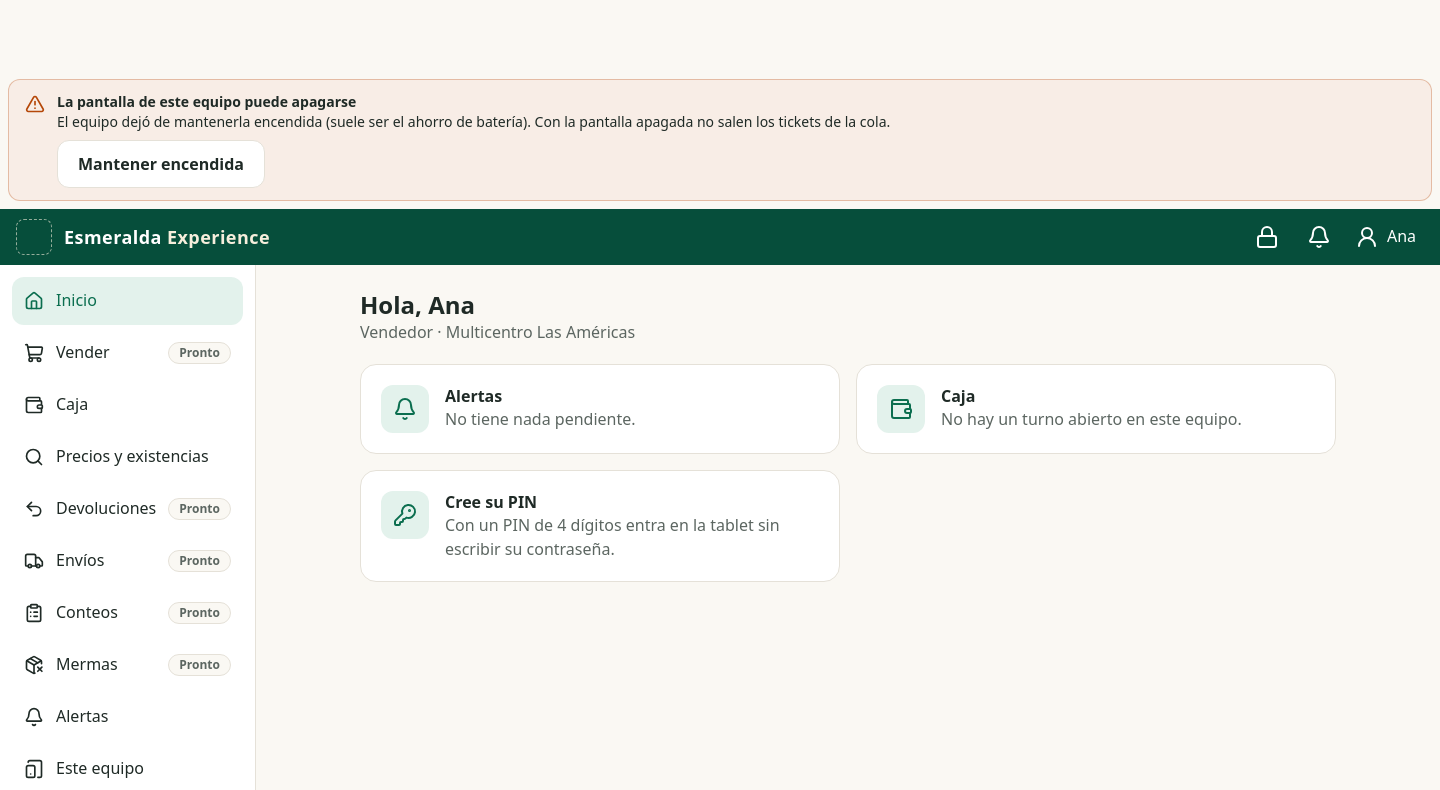
Test: caja › se abre declarando lo contado, sin ver ningún fondo esperado, y avisa del tipo de cambio en ámbar
(page scrolled)
Click the link "Caja".
click(56, 404)  # box x1=24 y1=393 x2=88 y2=415
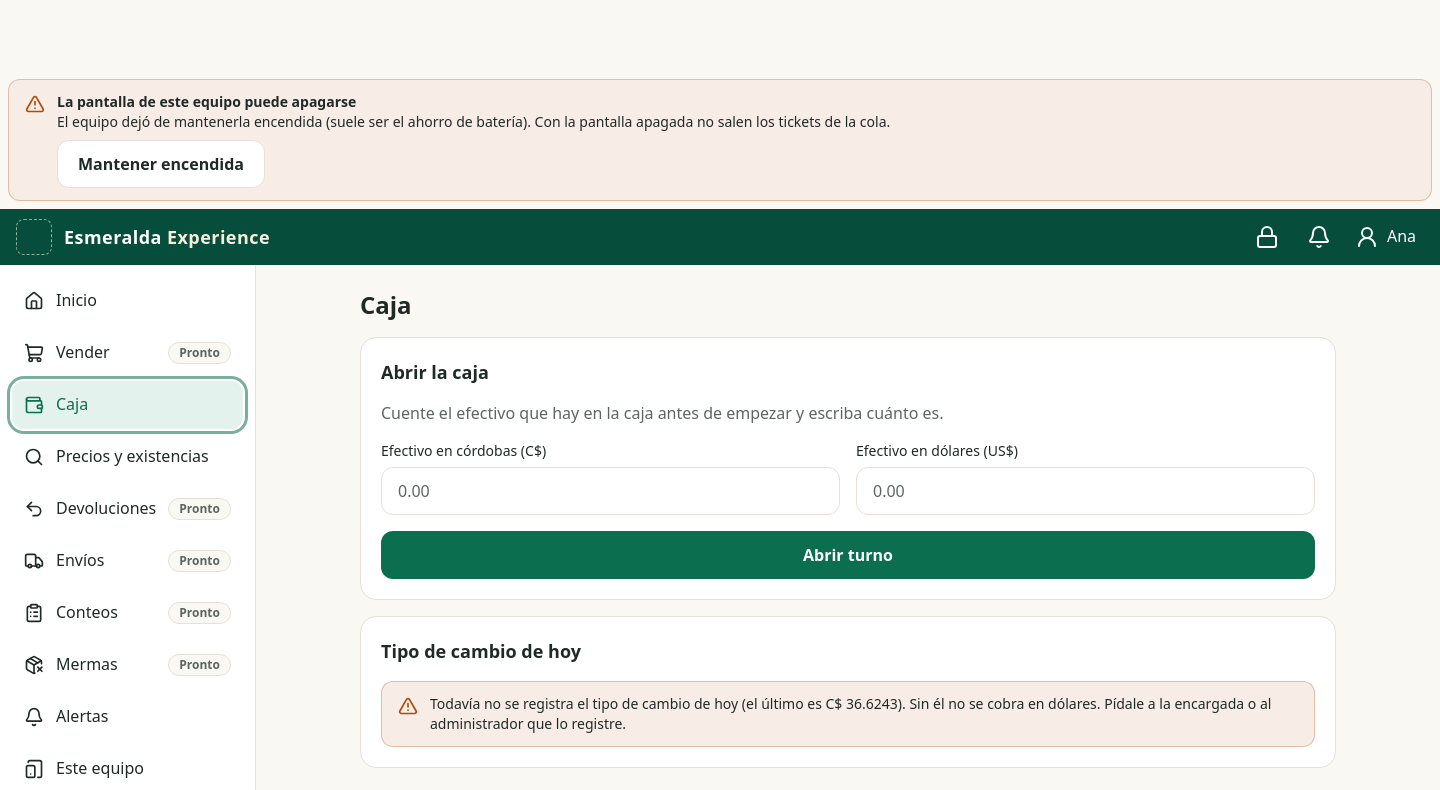
Result: the heading "Abrir la caja" is shown at x1=381 y1=360 x2=489 y2=384
Result: the text "Todavía no se registra el tipo de cambio de hoy" is shown at x1=430 y1=694 x2=738 y2=713
Type "500" into the field labelled "Efectivo en córdobas (C$)".
click(610, 491); type("500")  # box x1=381 y1=467 x2=840 y2=515
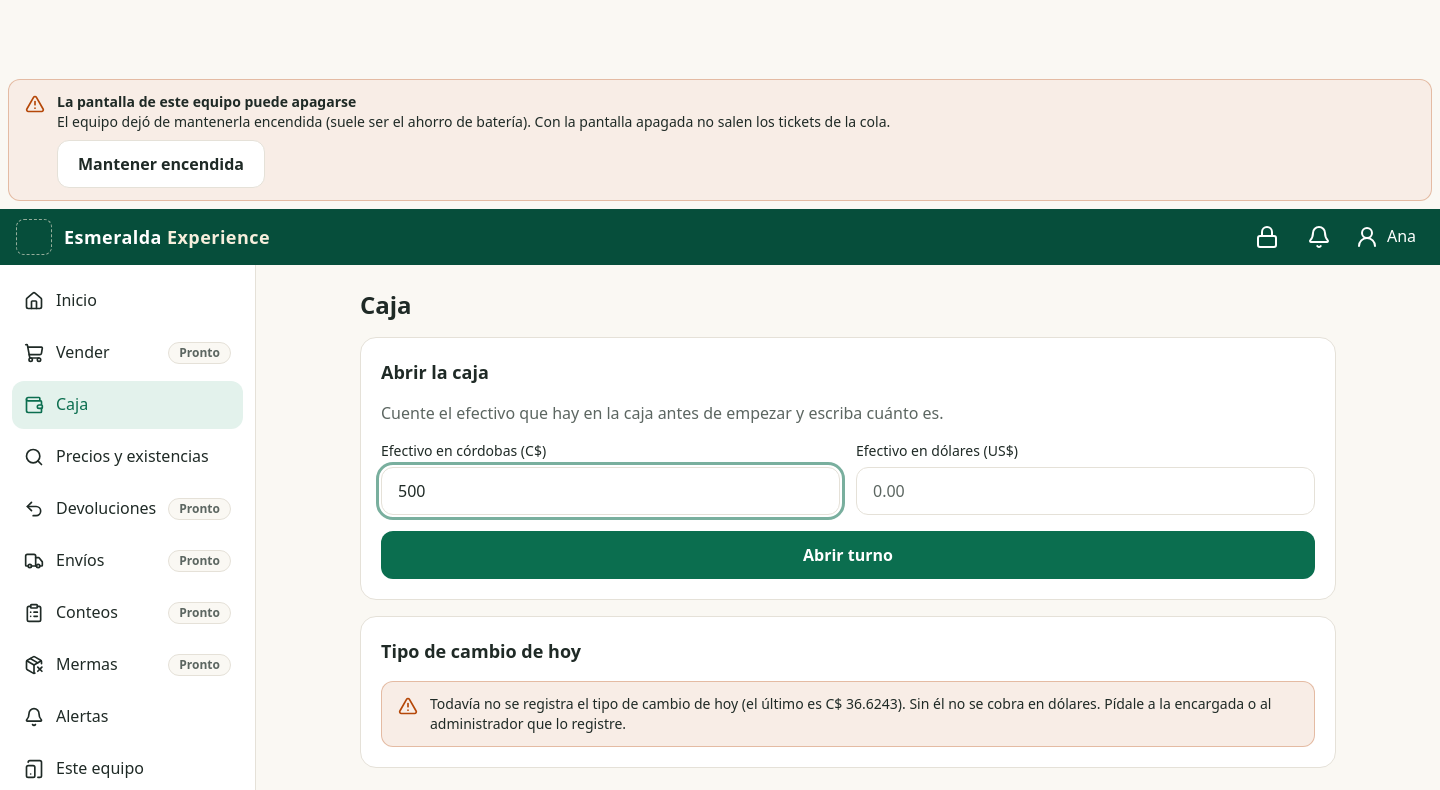
Click the button "Abrir turno".
click(848, 555)  # box x1=381 y1=531 x2=1315 y2=579
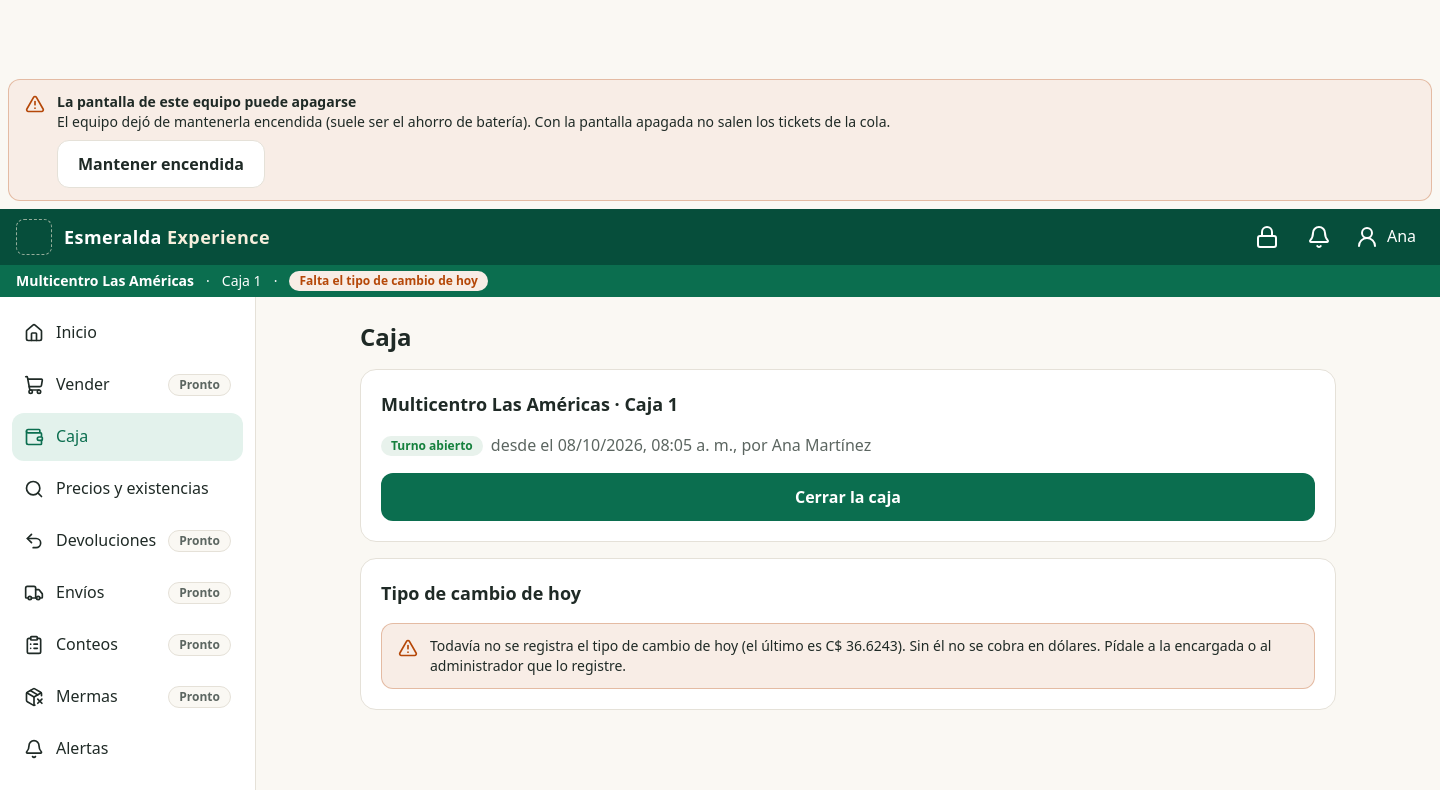
Result: the text "Turno abierto" is shown at x1=381 y1=436 x2=483 y2=456
